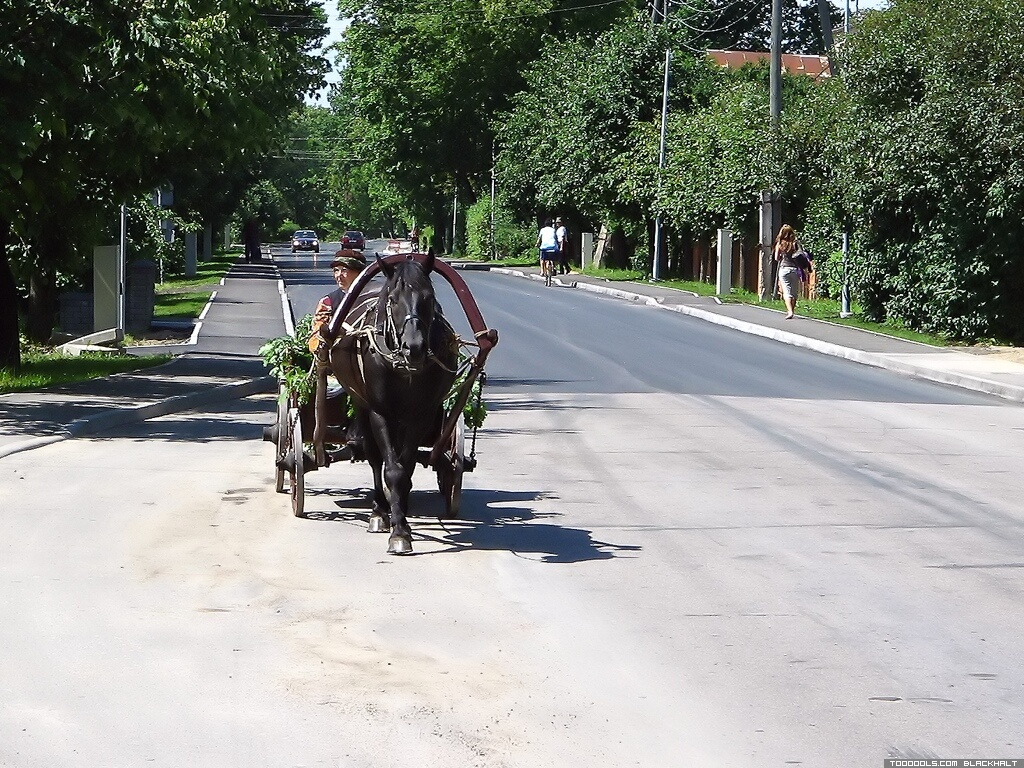horse: (321, 251, 466, 558)
